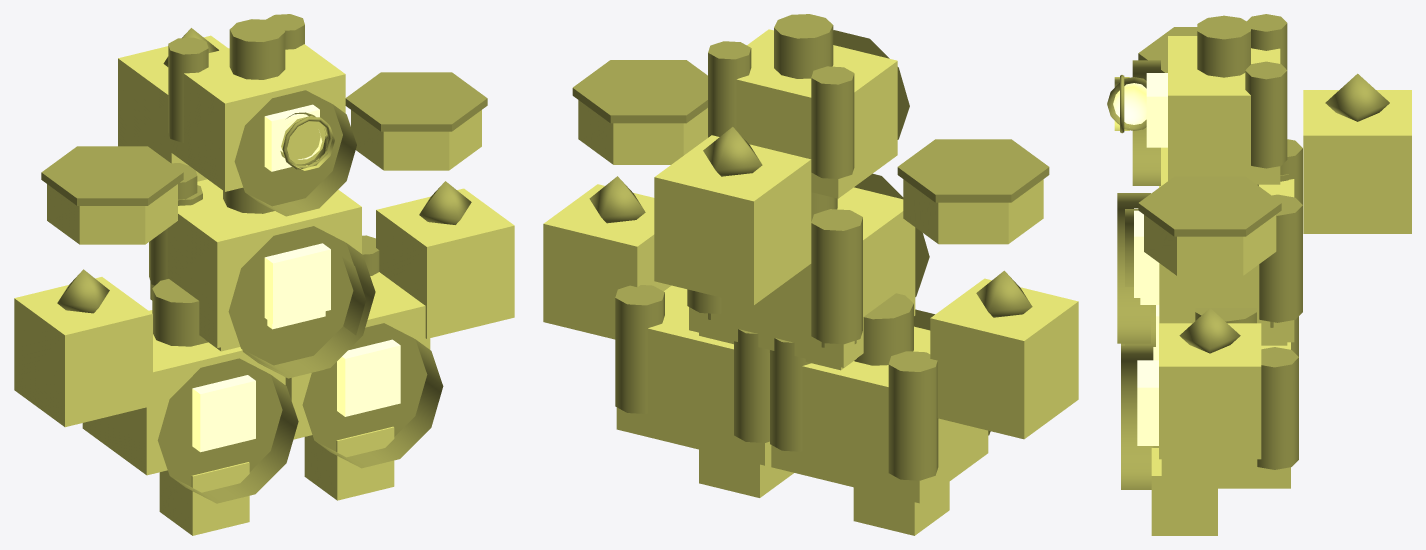
File: golem_088.glb
3 renders of one model, left to right at view 1: azimuth 30°, elevation 25°; view 2: azimuth 150°, elevation 25°; view 3: azimuth 270°, elevation 25°, orthographic. The views are drawn at different scales.
Parts seen in each view (by area): view 1: Body, Detail, Glow; view 2: Body, Detail; view 3: Body, Detail, Glow.
Boxes of the visible parts, x1,y1,x2,y2 form: Body: (14, 35, 514, 535); Detail: (41, 14, 487, 503); Glow: (192, 104, 400, 452); Body: (543, 29, 1078, 535); Detail: (572, 14, 1049, 480); Body: (1114, 36, 1411, 535); Detail: (1107, 14, 1389, 489); Glow: (1113, 73, 1167, 445).
Size of the model in its own units: 1.6 by 1.55 by 0.9325.
